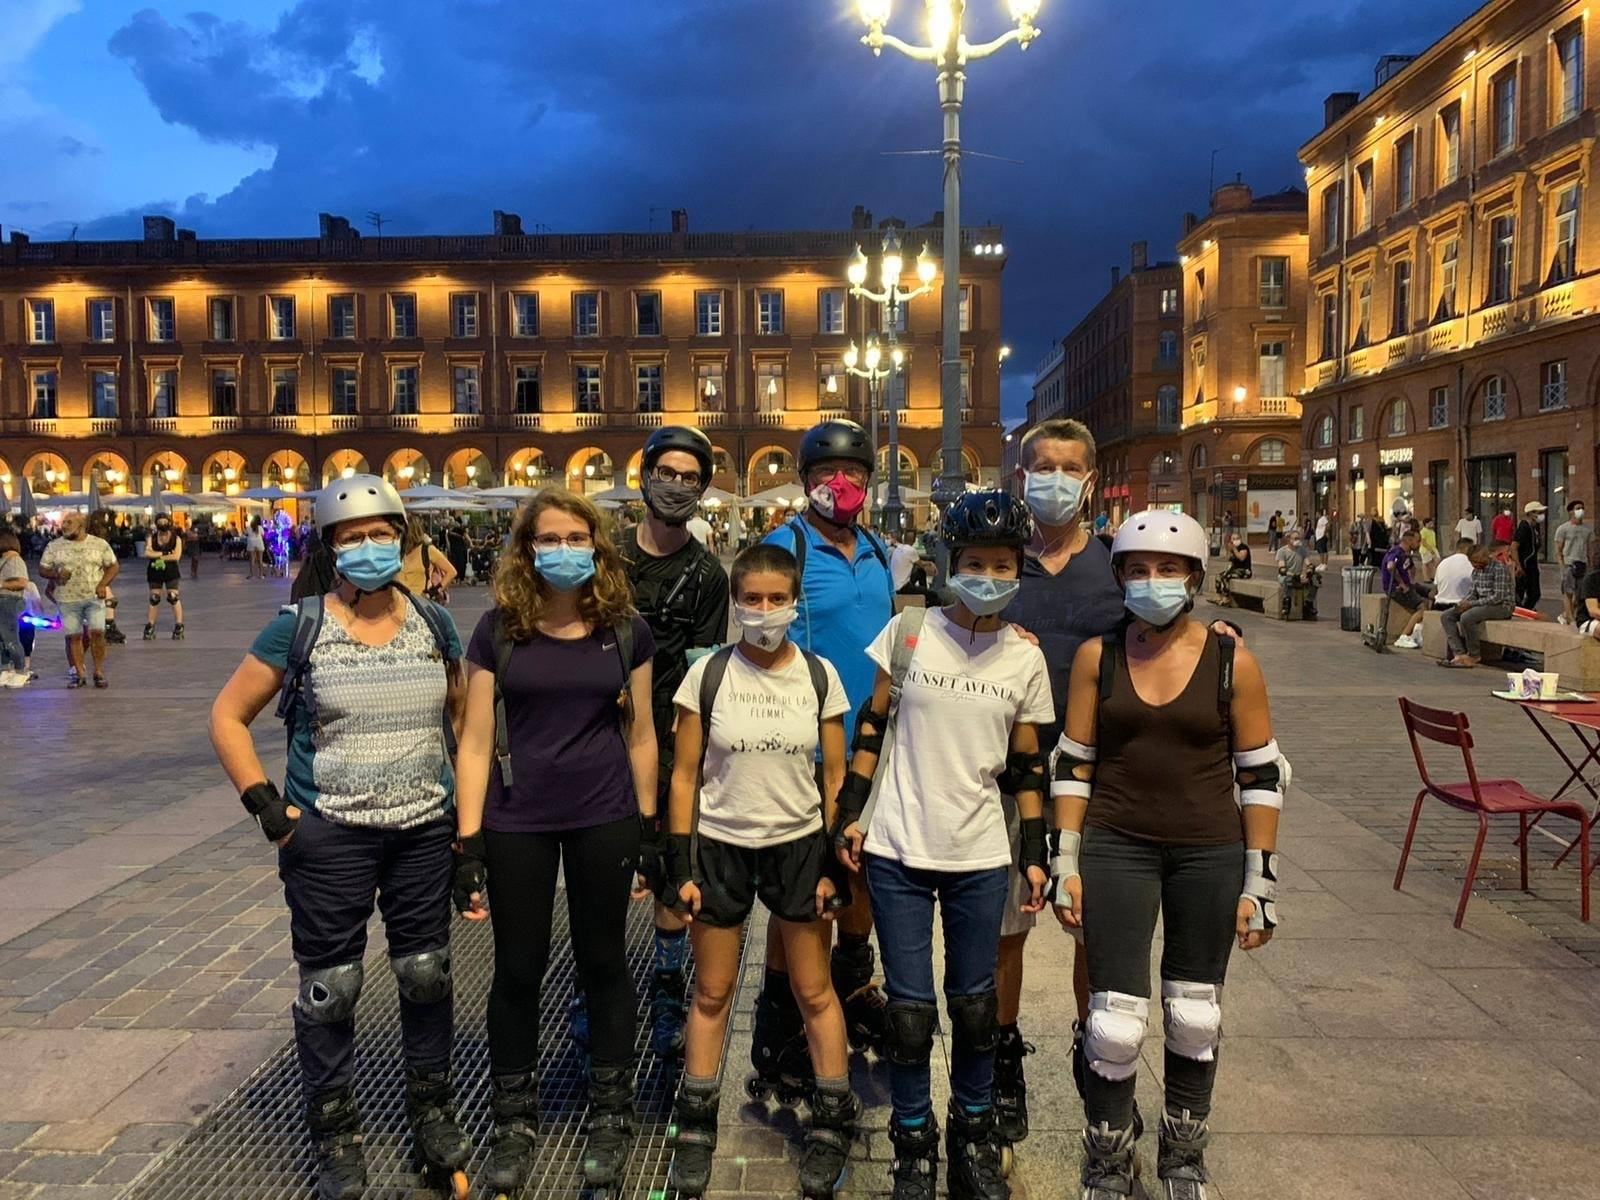with_mask: (322, 508, 410, 593), (1016, 455, 1103, 529), (943, 549, 1027, 618), (1116, 557, 1199, 625), (730, 581, 807, 651), (525, 524, 605, 589), (640, 457, 706, 526), (803, 458, 870, 521)
